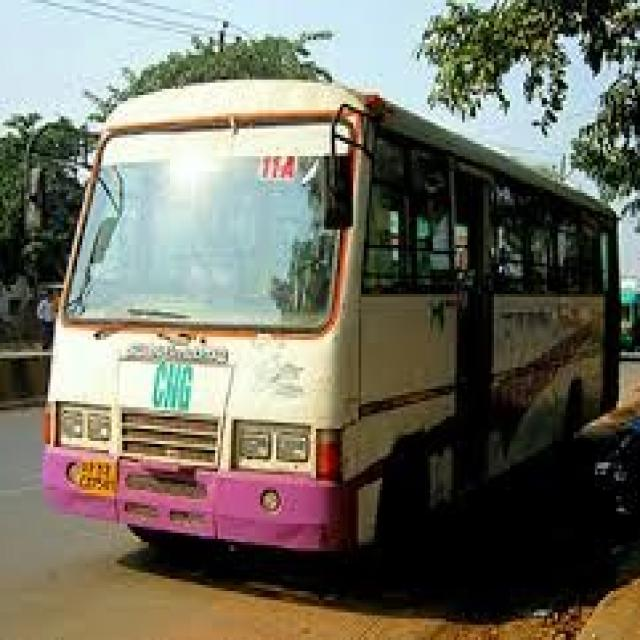bus: (37, 68, 640, 561)
